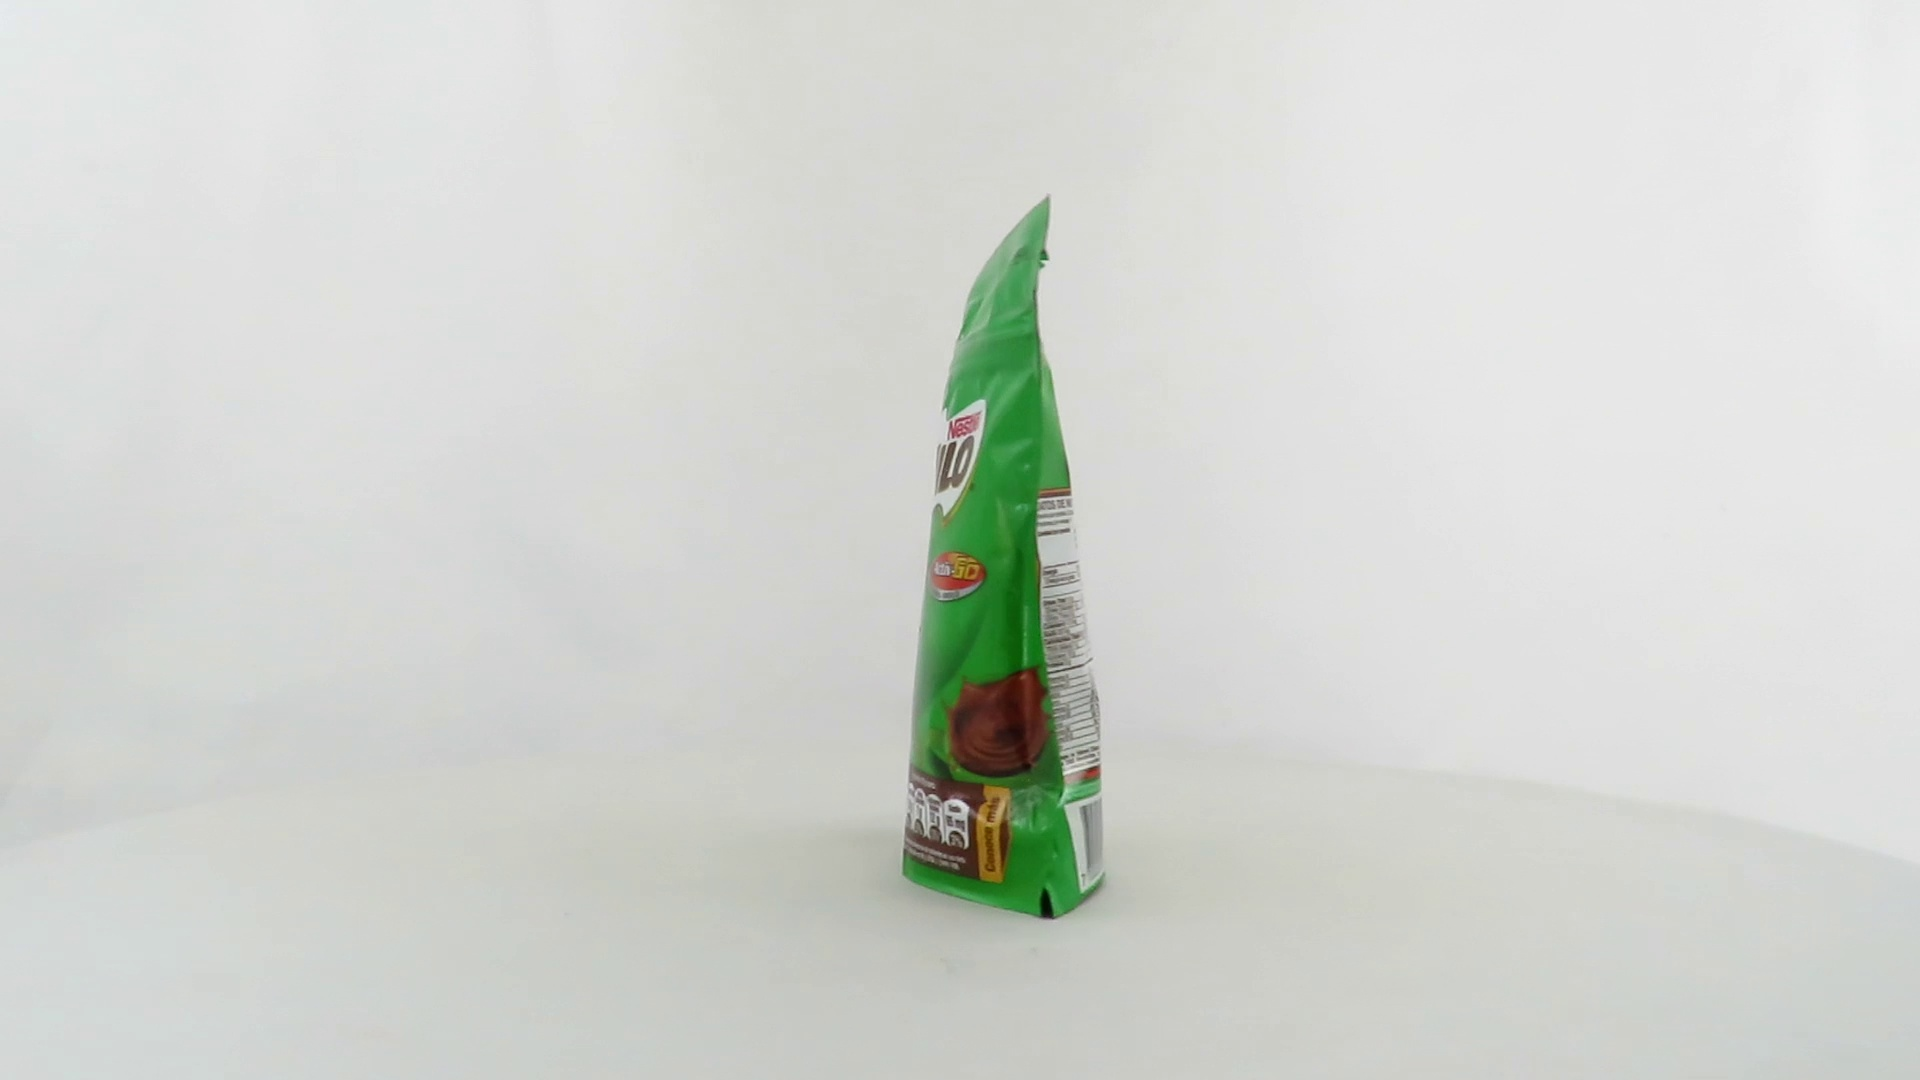COL0170203DYP10000: (897, 189, 1112, 926)
